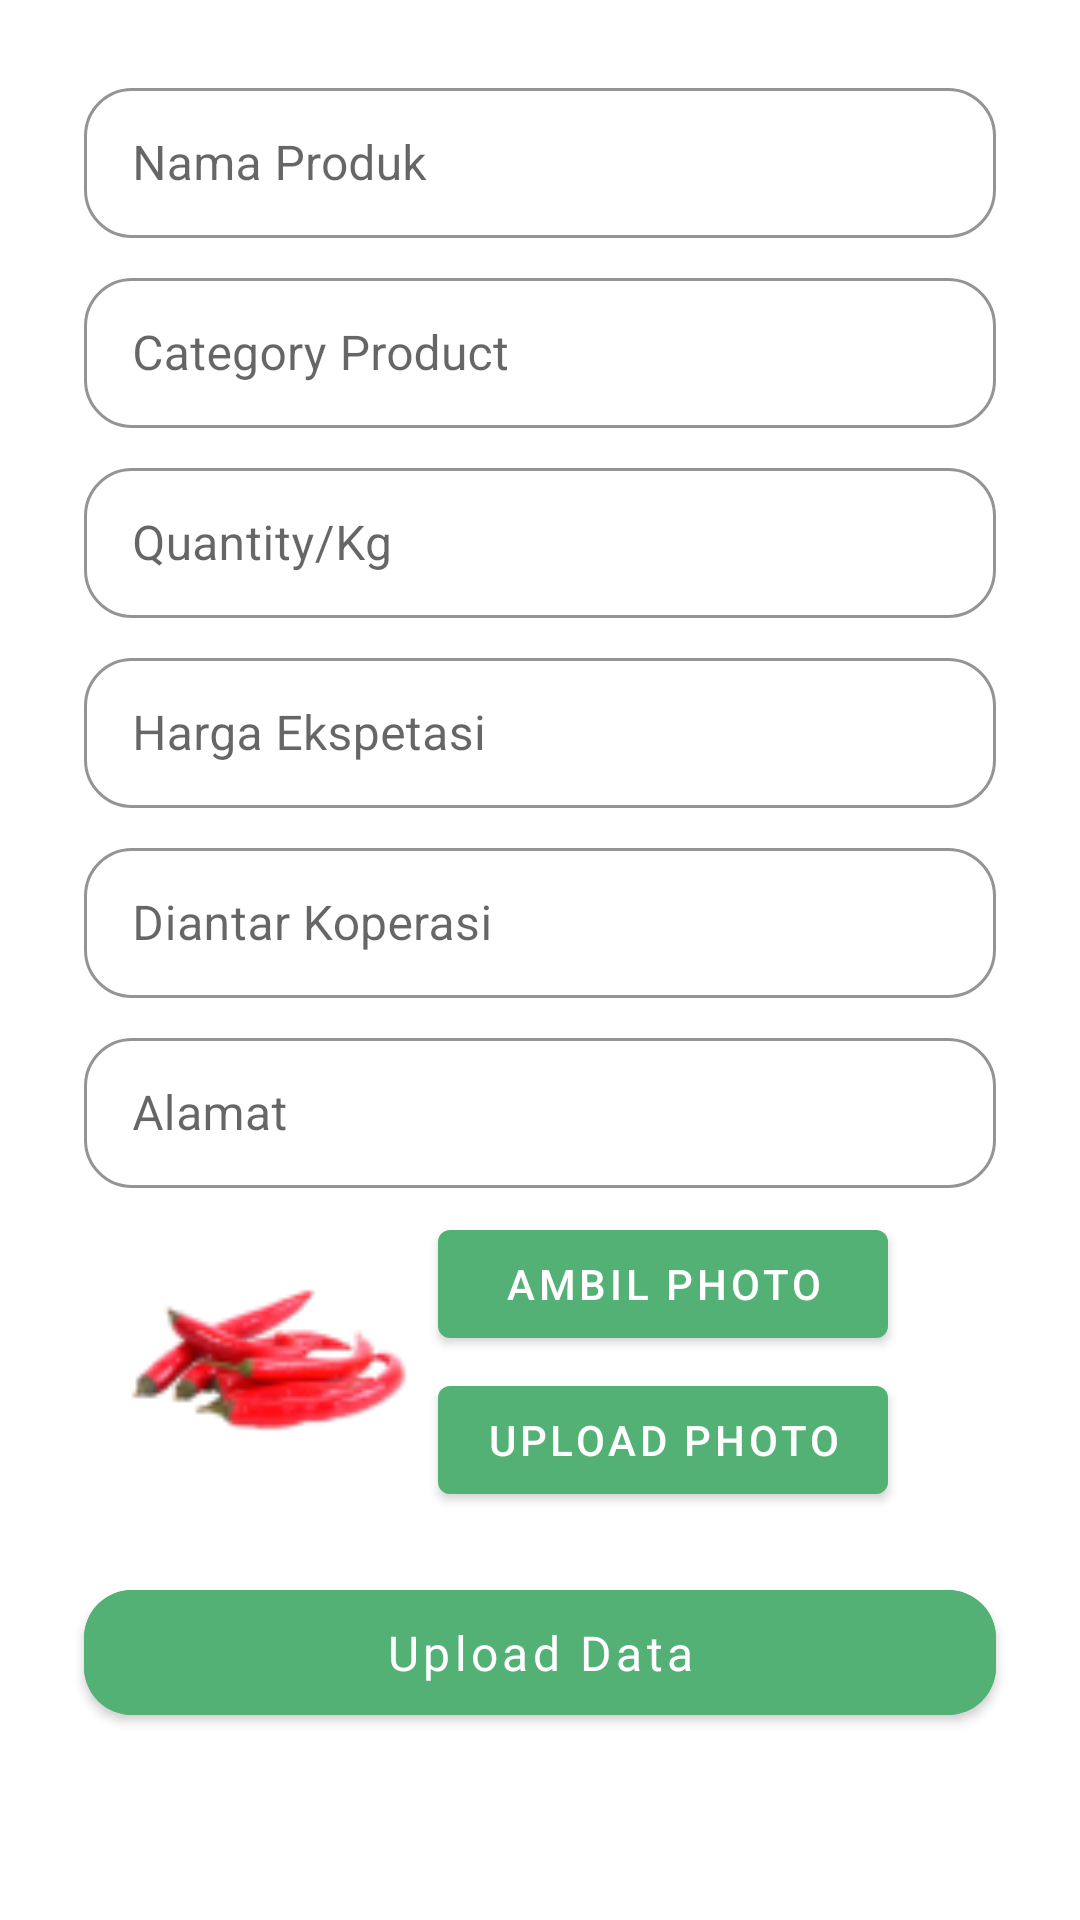

Icons on this 1080x1920 Android screen, each with its box as rect(x1, y1, x2, y2):
cabe: rect(132, 1290, 406, 1430)
